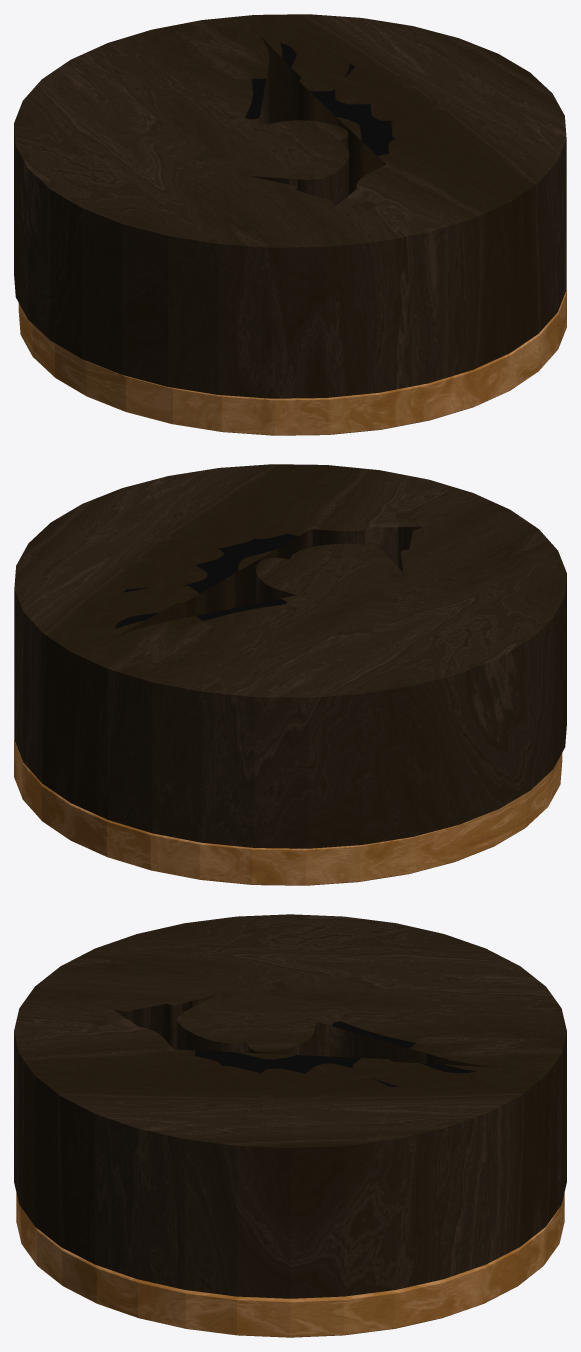
The model's file is dark_husar_pedestal.fbx.
3 renders of one model, top to bottom at view 1: azimuth 30°, elevation 25°; view 2: azimuth 150°, elevation 25°; view 3: azimuth 270°, elevation 25°, orthographic.
Visible parts, largest first — view 1: Emblem, Pedestal; view 2: Emblem, Pedestal; view 3: Emblem, Pedestal.
Boxes of the visible parts, left/top/right/bottom form: Emblem: left=14, top=14, right=566, bottom=398; Pedestal: left=18, top=290, right=566, bottom=435; Emblem: left=14, top=464, right=566, bottom=848; Pedestal: left=14, top=740, right=562, bottom=885; Emblem: left=14, top=914, right=566, bottom=1298; Pedestal: left=16, top=1193, right=564, bottom=1337.
Size of the model in its own units: 33.21 by 12.71 by 33.16.
2 materials, 2 textured.
